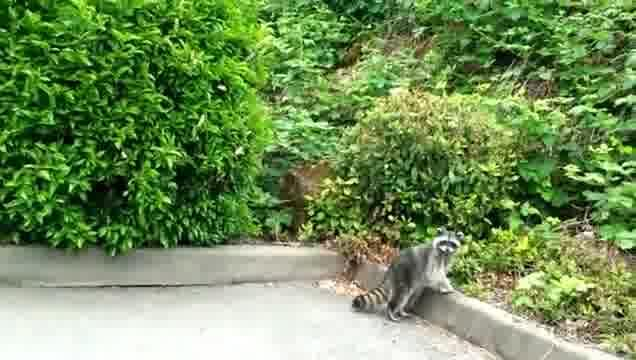raccoon: (351, 225, 465, 323)
